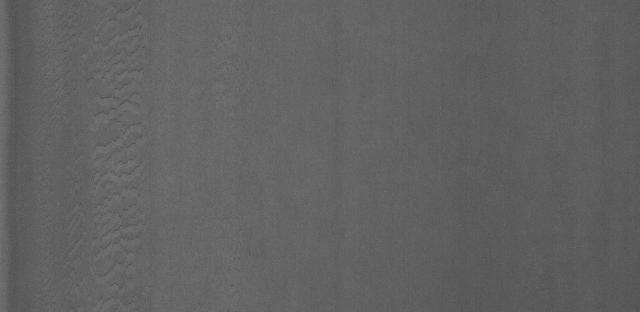silk_spot: (69, 2, 163, 296)
